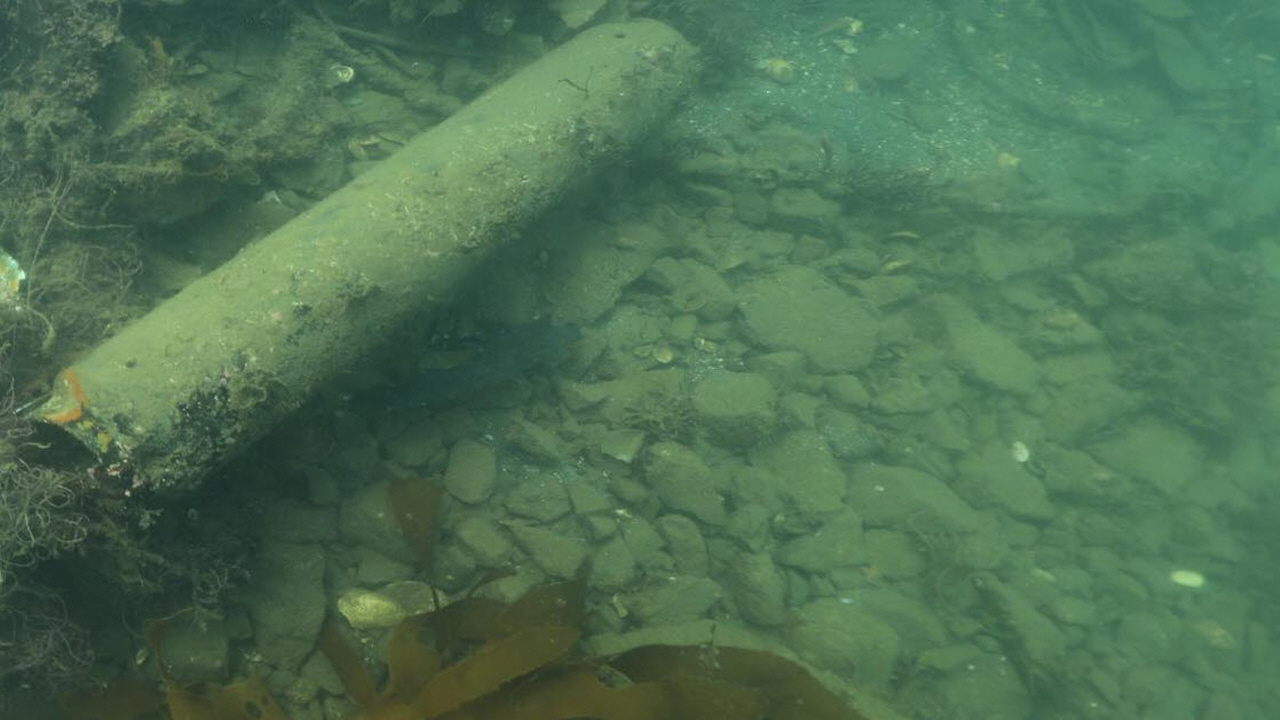eel fish trap: (20, 15, 703, 537)
